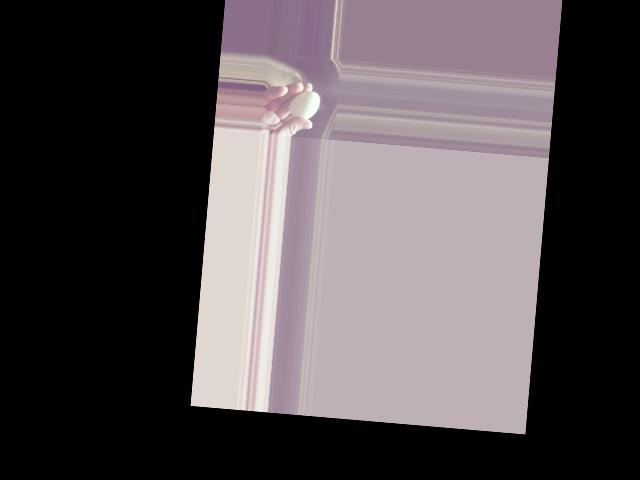egg: (288, 90, 320, 120)
